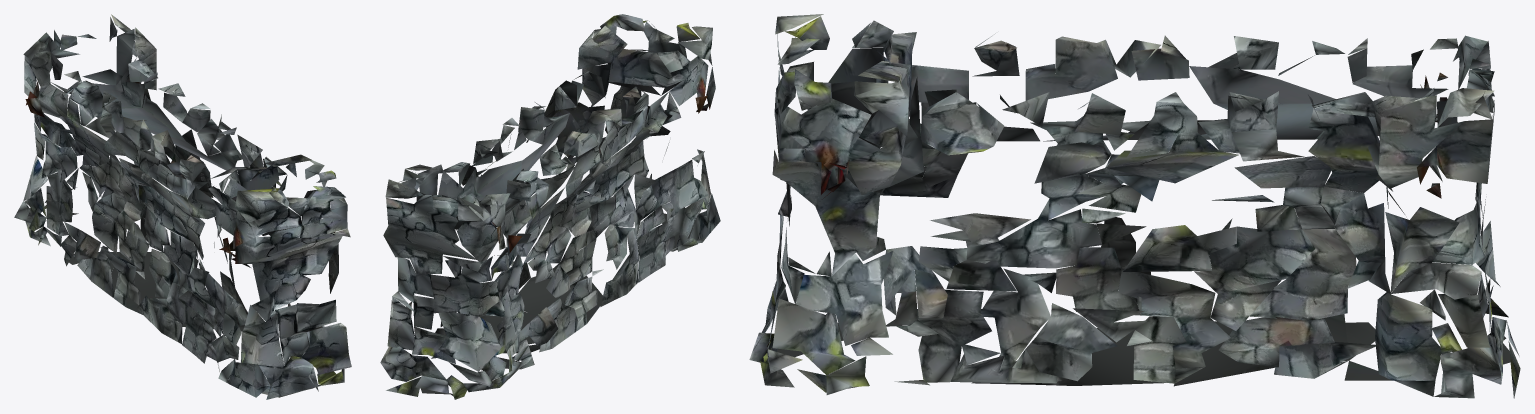
File: tripo-muro154-lod.glb
3 renders of one model, left to right at view 1: azimuth 30°, elevation 25°; view 2: azimuth 150°, elevation 25°; view 3: azimuth 270°, elevation 25°, orthographic. The views are drawn at different scales.
Visible parts, largest first — view 1: tripo_node_3a861232-79de-44b3-a147-8082ef5fb217; view 2: tripo_node_3a861232-79de-44b3-a147-8082ef5fb217; view 3: tripo_node_3a861232-79de-44b3-a147-8082ef5fb217.
Part boxes in pixels (<box>): tripo_node_3a861232-79de-44b3-a147-8082ef5fb217: <box>14,14,351,399</box>; tripo_node_3a861232-79de-44b3-a147-8082ef5fb217: <box>380,14,720,399</box>; tripo_node_3a861232-79de-44b3-a147-8082ef5fb217: <box>749,14,1520,398</box>.
Size of the model in its own units: 0.2859 by 0.4559 by 0.9779.
1 material, 1 textured.
